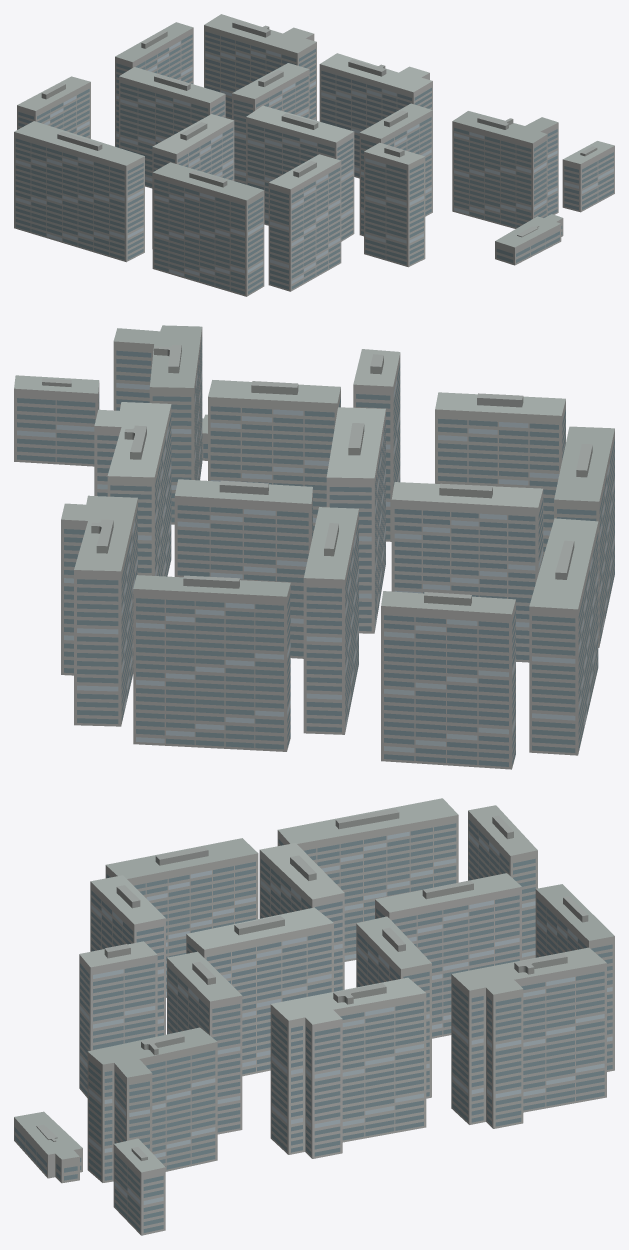
The model's file is apt-a13606201.glb.
3 renders of one model, top to bottom at view 1: azimuth 30°, elevation 25°; view 2: azimuth 150°, elevation 25°; view 3: azimuth 270°, elevation 25°, orthographic. The views are drawn at different scales.
Visible parts, largest first — view 1: apt-a13606201; view 2: apt-a13606201; view 3: apt-a13606201.
Boxes of the visible parts, box(x1,y1,x2,y2) form: apt-a13606201: box(14, 14, 614, 296); apt-a13606201: box(14, 325, 614, 769); apt-a13606201: box(14, 798, 614, 1235).
Size of the model in its own units: 242 by 51 by 197.
